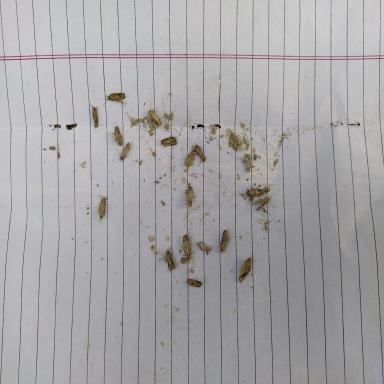pbw: (180, 234, 194, 260), (217, 226, 230, 254), (161, 246, 175, 271), (103, 92, 126, 107), (108, 125, 122, 146), (116, 142, 130, 163), (147, 108, 162, 126), (192, 143, 206, 162), (238, 263, 251, 283), (254, 196, 271, 211), (237, 154, 251, 172), (185, 274, 202, 288), (238, 256, 251, 274), (238, 187, 264, 196), (89, 104, 98, 129), (184, 146, 195, 166), (198, 241, 212, 255), (159, 136, 178, 146), (98, 198, 106, 221), (186, 186, 193, 207)
